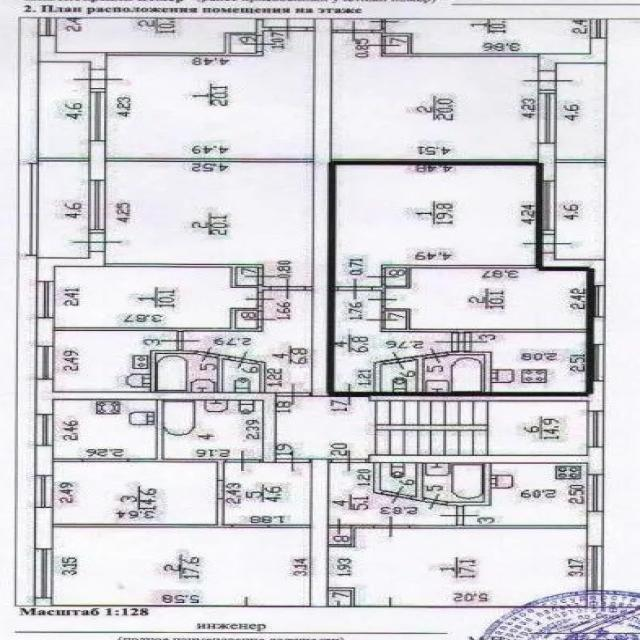Bathrooms: (164, 400, 261, 458), (155, 354, 216, 392), (424, 464, 484, 502), (424, 355, 484, 392), (222, 360, 259, 393), (381, 360, 418, 392), (381, 463, 416, 496)
Corridors: (184, 291, 313, 392), (334, 291, 451, 392), (329, 463, 456, 525), (277, 396, 368, 459), (226, 464, 310, 524), (38, 160, 89, 258), (38, 62, 89, 157), (557, 63, 606, 159), (557, 163, 604, 259), (333, 19, 380, 29), (232, 35, 256, 52), (329, 590, 351, 607), (236, 311, 257, 328), (237, 268, 257, 285), (265, 19, 313, 26), (330, 528, 350, 544), (388, 268, 405, 285), (388, 312, 405, 328), (388, 37, 406, 52)
Doors: (432, 332, 491, 352), (72, 69, 125, 89), (522, 70, 575, 90), (70, 233, 125, 252), (522, 235, 574, 254), (276, 382, 313, 406), (372, 516, 411, 538), (437, 506, 482, 525), (271, 17, 308, 40), (334, 383, 369, 407), (276, 449, 311, 473), (270, 277, 306, 300), (225, 449, 261, 472), (158, 331, 199, 351), (336, 20, 373, 42), (338, 278, 375, 300), (329, 450, 366, 472), (381, 351, 416, 369), (365, 268, 401, 285), (244, 310, 279, 327), (228, 350, 259, 369), (243, 35, 277, 52), (243, 268, 277, 285), (366, 312, 400, 329), (381, 486, 413, 504), (366, 37, 400, 53), (365, 293, 400, 307), (422, 493, 448, 511), (242, 293, 276, 306), (423, 347, 449, 364), (329, 518, 352, 535), (195, 346, 219, 362), (369, 19, 401, 28), (217, 479, 225, 499), (232, 525, 269, 529), (83, 459, 128, 462)
LBwalls: (35, 379, 277, 463), (314, 18, 334, 397), (369, 381, 606, 411), (368, 447, 605, 475), (311, 459, 329, 607), (38, 35, 108, 70), (538, 38, 608, 71), (536, 253, 606, 286), (36, 251, 106, 282), (35, 508, 53, 549), (539, 143, 556, 181), (89, 141, 105, 180), (587, 512, 604, 546), (34, 445, 53, 475), (586, 317, 606, 344), (37, 318, 54, 346), (587, 591, 604, 607), (35, 598, 51, 606), (537, 230, 556, 234), (538, 90, 555, 94), (90, 88, 105, 92), (88, 230, 105, 233)
Offices: (106, 31, 313, 158), (332, 33, 539, 159), (105, 162, 313, 286), (335, 164, 539, 286), (53, 527, 309, 607), (329, 529, 586, 607), (54, 267, 257, 327), (386, 269, 586, 328), (54, 462, 217, 525), (54, 331, 177, 392), (465, 464, 587, 525), (56, 18, 256, 53), (386, 19, 590, 53), (473, 333, 586, 391), (53, 400, 157, 458)
Stairs: (368, 401, 587, 455)
Walls: (127, 400, 225, 480), (106, 19, 272, 57), (379, 306, 587, 333), (53, 498, 231, 528), (54, 306, 264, 331), (106, 263, 271, 294), (371, 28, 539, 57), (150, 350, 197, 392), (446, 351, 492, 393), (447, 464, 492, 506), (372, 267, 411, 293), (329, 525, 373, 547), (331, 159, 538, 163), (107, 158, 313, 162), (411, 525, 587, 529), (409, 463, 427, 501), (381, 265, 537, 269), (412, 355, 428, 392), (32, 163, 38, 256), (216, 355, 231, 392), (328, 587, 355, 607), (373, 361, 385, 392), (373, 463, 385, 494), (256, 361, 265, 393), (556, 159, 606, 163), (38, 158, 89, 161), (269, 525, 310, 528), (54, 459, 83, 462), (307, 26, 314, 32), (305, 285, 313, 290), (334, 286, 339, 290), (366, 458, 370, 463), (333, 29, 337, 33)
Windows: (34, 548, 52, 598), (538, 181, 556, 230), (539, 93, 556, 143), (88, 180, 105, 229), (586, 546, 604, 591), (90, 92, 105, 140), (36, 281, 55, 318), (588, 344, 606, 381), (587, 475, 605, 512), (34, 414, 53, 446), (587, 411, 603, 447), (35, 475, 52, 508), (36, 346, 53, 379), (588, 286, 606, 317), (38, 17, 56, 36), (590, 18, 607, 38)
